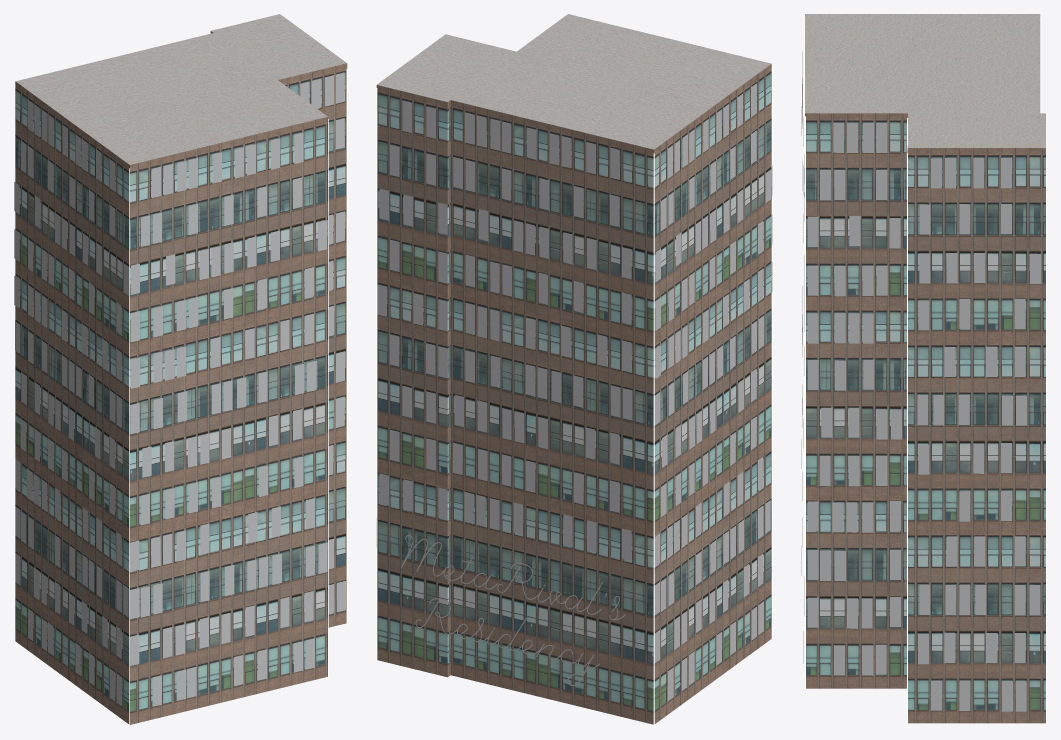
Rendered from Building-1.fbx.
3 views of the same model, side by side, from view 1: azimuth 30°, elevation 25°; view 2: azimuth 150°, elevation 25°; view 3: azimuth 270°, elevation 25° (orthographic). The views are drawn at different scales.
Visible parts, largest first — view 1: building_003.002, Cylinder.027, Cylinder.029, Cylinder.006, Cylinder.025; view 2: building_003.002, Text.001, Cylinder.006, Cylinder.029, Cylinder.028; view 3: building_003.002, Cylinder.028, Cylinder.006, Cylinder.025, Cylinder.027.
Part boxes in pixels (x1,y1,x2,y2): building_003.002: [15, 14, 347, 724]; Cylinder.027: [346, 68, 347, 625]; Cylinder.029: [14, 85, 15, 641]; Cylinder.006: [129, 168, 129, 725]; Cylinder.025: [328, 119, 328, 676]; building_003.002: [376, 14, 771, 724]; Text.001: [401, 535, 625, 685]; Cylinder.006: [771, 67, 772, 639]; Cylinder.029: [653, 153, 654, 725]; Cylinder.028: [376, 88, 377, 660]; building_003.002: [805, 14, 1045, 723]; Cylinder.028: [1046, 150, 1046, 723]; Cylinder.006: [804, 17, 804, 589]; Cylinder.025: [805, 116, 805, 688]; Cylinder.027: [907, 153, 907, 725].
Size of the model in its own units: 1376 by 2712 by 1043.
Materials: 5 (2 with a texture image).
